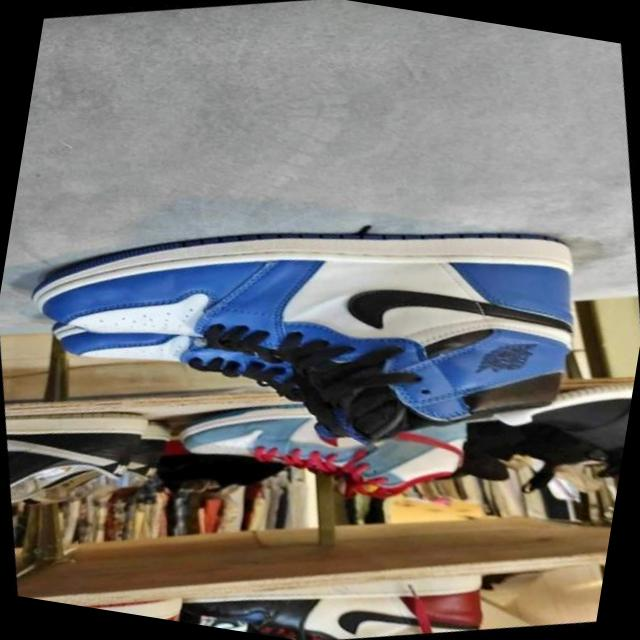nike_fake_jordan: (0, 122, 631, 553), (166, 349, 485, 557)
